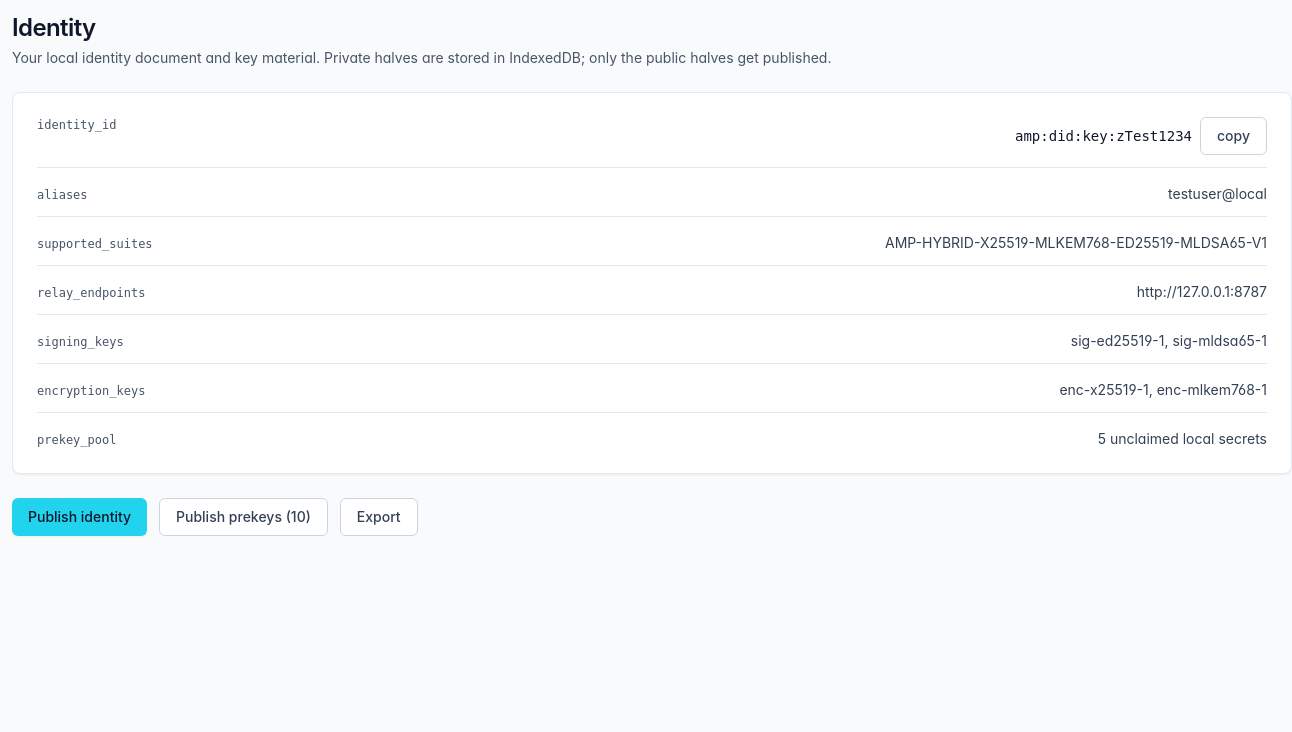
Test: Identity page › shows relay error when publish identity fails
Click the button "Publish identity".
click(80, 517)  # box left=12, top=498, right=147, bottom=536
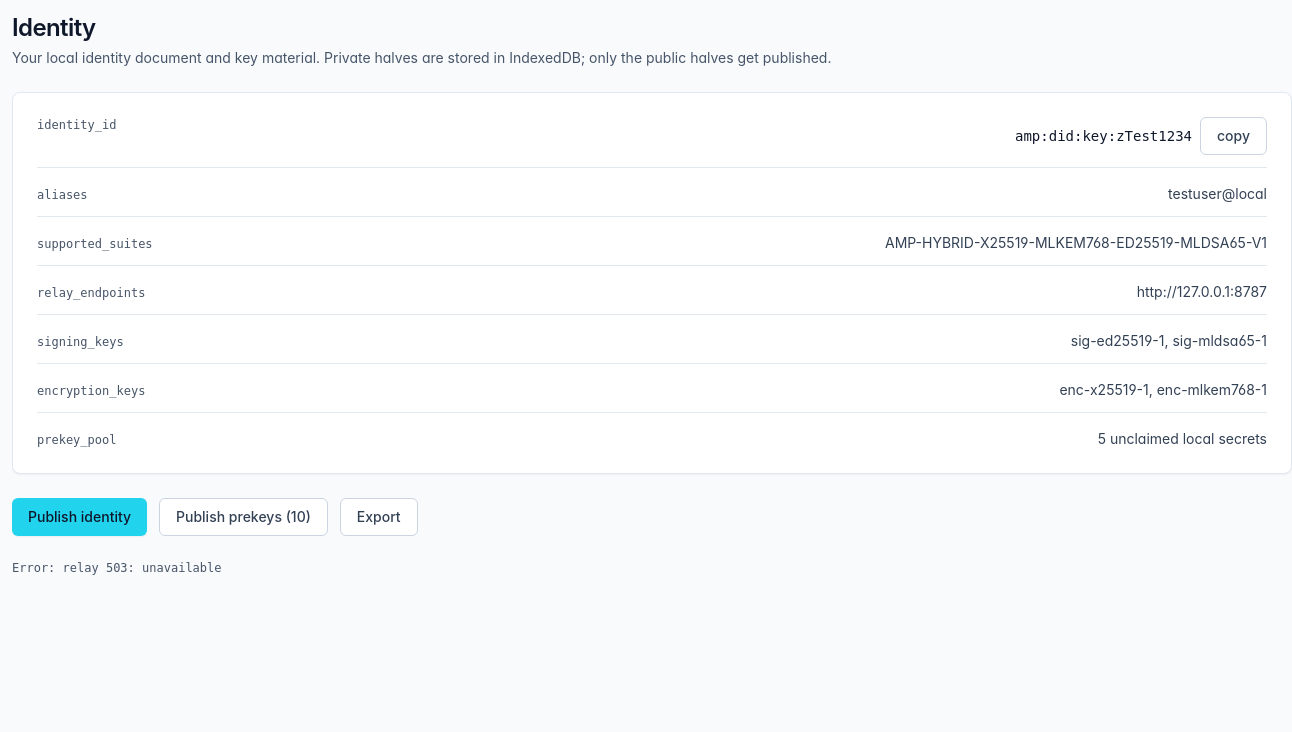
Check: the text "Error: relay 503: unavailable" is shown, box left=12, top=561, right=222, bottom=575
